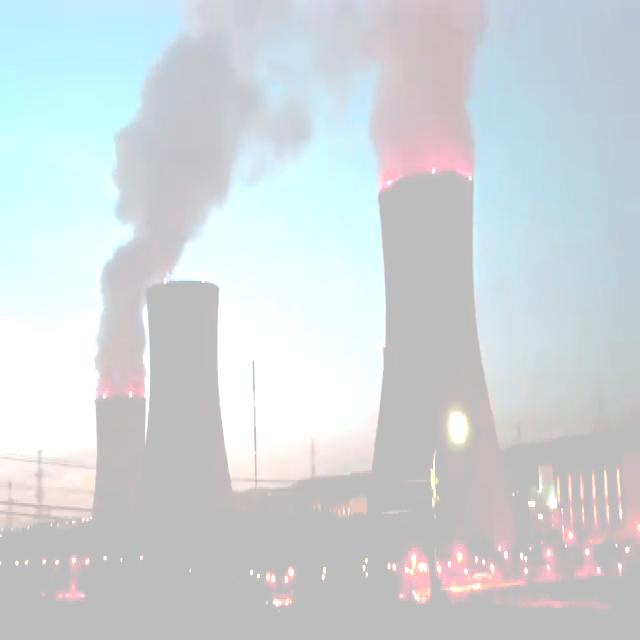smoke: (95, 0, 363, 400), (371, 0, 481, 185)
